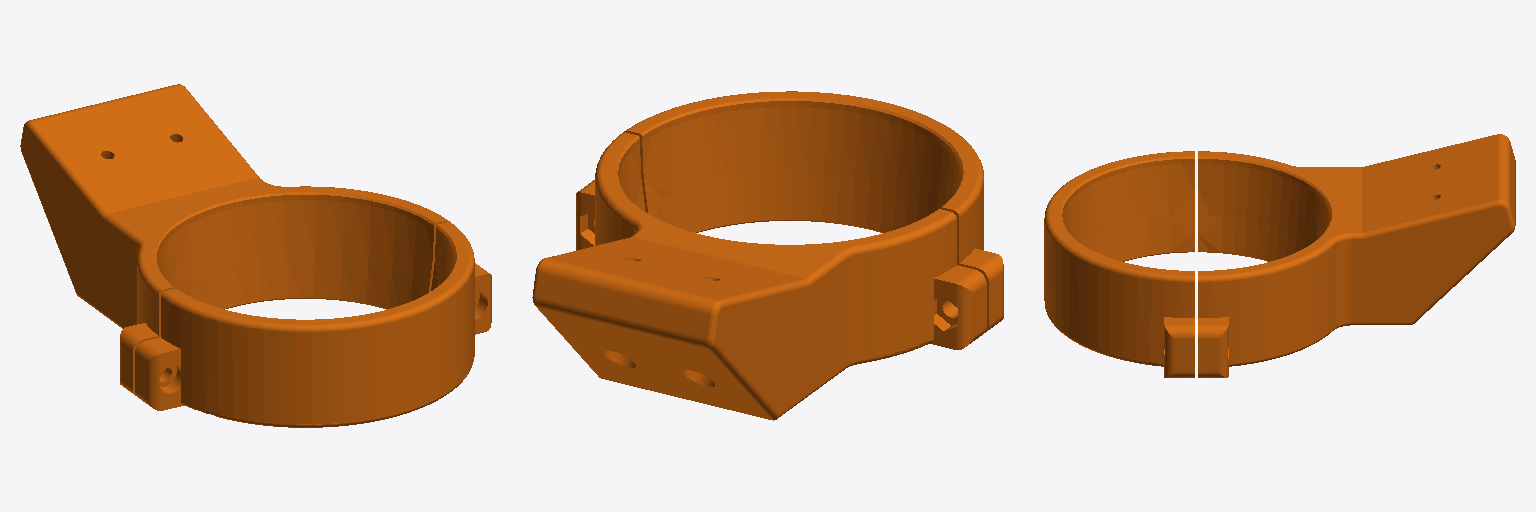
robot.urdf — kinova_cam_ring_d405:
<?xml version="1.0"?>
<!-- Gerado por scripts/ros_export.py (kinova-cam): ring_d405 — D405 com o imageador esquerdo (cor e profundidade) no eixo da garra, 15°.
     URDF isolado (raiz end_effector_link), para conferir com check_urdf / RViz. -->
<robot name="kinova_cam_ring_d405">
  <link name="end_effector_link"/>
  <joint name="camera_mount_joint" type="fixed">
    <parent link="end_effector_link"/>
    <child link="camera_mount_link"/>
    <origin xyz="0 0 0.00287" rpy="0 0 0"/>
  </joint>
  <link name="camera_mount_link">
    <visual>
      <geometry><mesh filename="package://kinova_cam_description/meshes/ring_d405_camera_half.stl" scale="0.001 0.001 0.001"/></geometry>
      <material name="ring_d405_camera_half"><color rgba="0.85 0.45 0.1 1"/></material>
    </visual>
    <collision>
      <geometry><mesh filename="package://kinova_cam_description/meshes/ring_d405_camera_half.stl" scale="0.001 0.001 0.001"/></geometry>
    </collision>
    <visual>
      <geometry><mesh filename="package://kinova_cam_description/meshes/ring_lower_half.stl" scale="0.001 0.001 0.001"/></geometry>
      <material name="ring_lower_half"><color rgba="0.85 0.45 0.1 1"/></material>
    </visual>
    <collision>
      <geometry><mesh filename="package://kinova_cam_description/meshes/ring_lower_half.stl" scale="0.001 0.001 0.001"/></geometry>
    </collision>
  </link>
  <joint name="camera_joint" type="fixed">
    <parent link="camera_mount_link"/>
    <child link="camera_link"/>
    <origin xyz="0 0.061768 0.002981" rpy="0 -1.309 -1.5708"/>
  </joint>
  <link name="camera_link"/>
</robot>

--- Render facts (derived) ---
Views: 3 orthographic renders of the robot side by side, from view 1: azimuth 30°, elevation 25°; view 2: azimuth 150°, elevation 25°; view 3: azimuth 270°, elevation 25°.
Model kinova_cam_ring_d405 with 3 links and 2 joints (2 fixed), rooted at end_effector_link, posed all joints at 0.
Links seen in each view (by area): view 1: camera_mount_link; view 2: camera_mount_link; view 3: camera_mount_link.
Link boxes in pixels (left/top/right/bottom): camera_mount_link: left=20, top=84, right=491, bottom=427; camera_mount_link: left=532, top=91, right=1003, bottom=420; camera_mount_link: left=1044, top=134, right=1515, bottom=377.
Size in the robot's own frame: 0.1 by 0.1318 by 0.0387 metres.
2 mesh visuals loaded from 2 distinct referenced files (2 binary STL).
